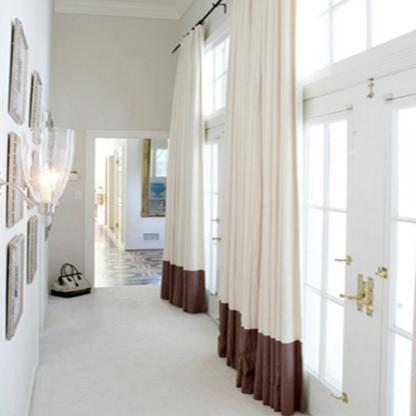door: (300, 86, 366, 416), (364, 74, 415, 415)
lever: (356, 298, 376, 310), (337, 292, 363, 300)
